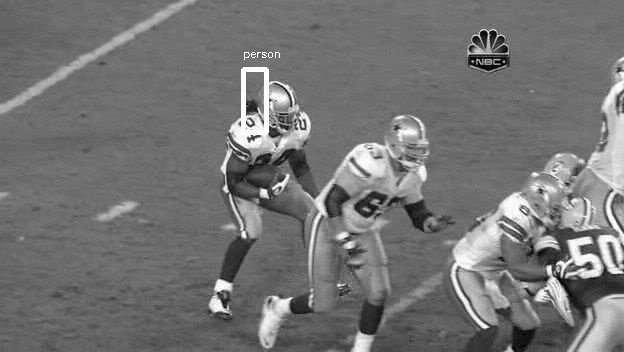person: (263, 83, 299, 129), (262, 83, 298, 129), (264, 83, 300, 129), (263, 82, 299, 128), (263, 84, 299, 130)
target_negative: (148, 82, 338, 345), (385, 129, 476, 304), (33, 196, 219, 271), (413, 131, 559, 190), (43, 340, 541, 352), (83, 36, 346, 40)
